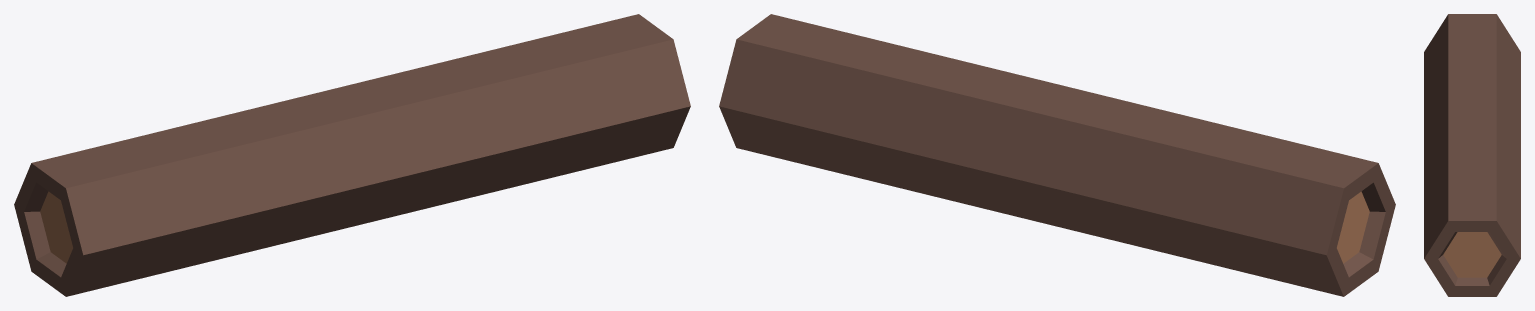
The model's file is Trunk_01.fbx.
The picture shows the model from 3 angles, left to right: view 1: azimuth 30°, elevation 25°; view 2: azimuth 150°, elevation 25°; view 3: azimuth 270°, elevation 25°; orthographic projection. The views are drawn at different scales.
Visible parts, largest first — view 1: Trunk_01; view 2: Trunk_01; view 3: Trunk_01.
Boxes of the visible parts, bbox=[...] form: Trunk_01: bbox=[14, 14, 690, 296]; Trunk_01: bbox=[719, 14, 1395, 296]; Trunk_01: bbox=[1424, 14, 1520, 296].
Bounding box in the file's own units: 270 × 46.52 × 53.34.
